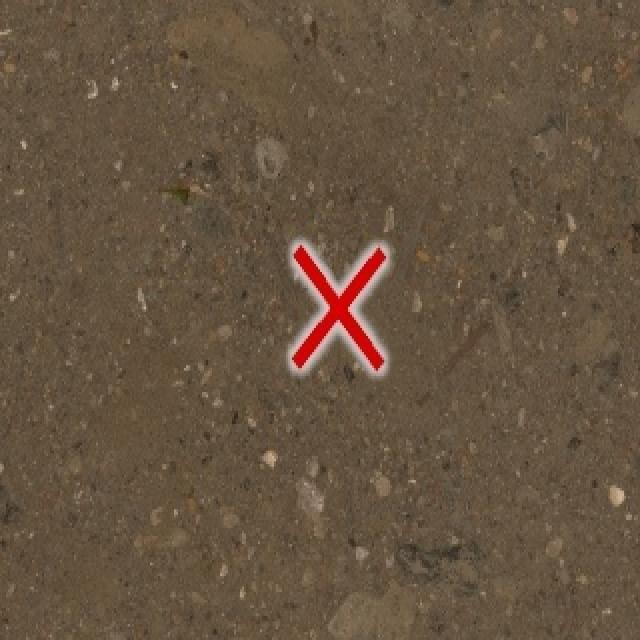x_marker: (291, 244, 385, 369)
